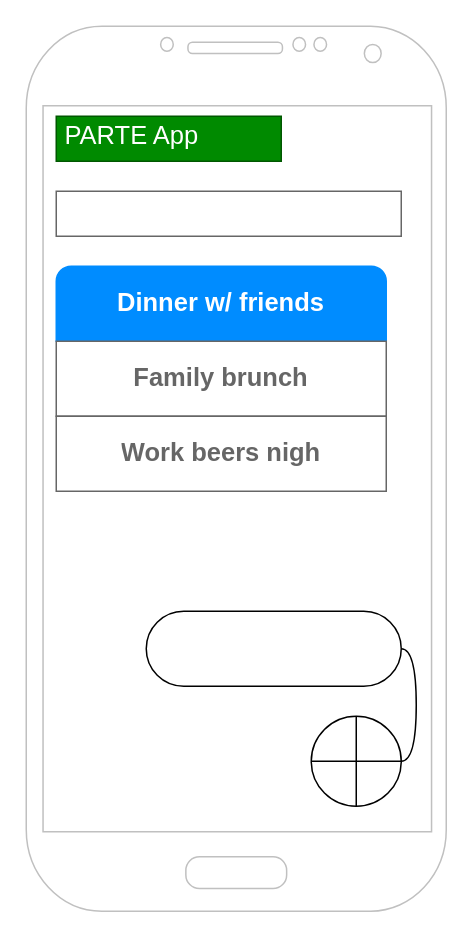
Image size: 473x938. Some labels were removed from this diagram. Each missing label, with the centre of its shape:
"Tap for new parte" goes at (273,648).
"This are your recent PARTE" goes at (228,213).
